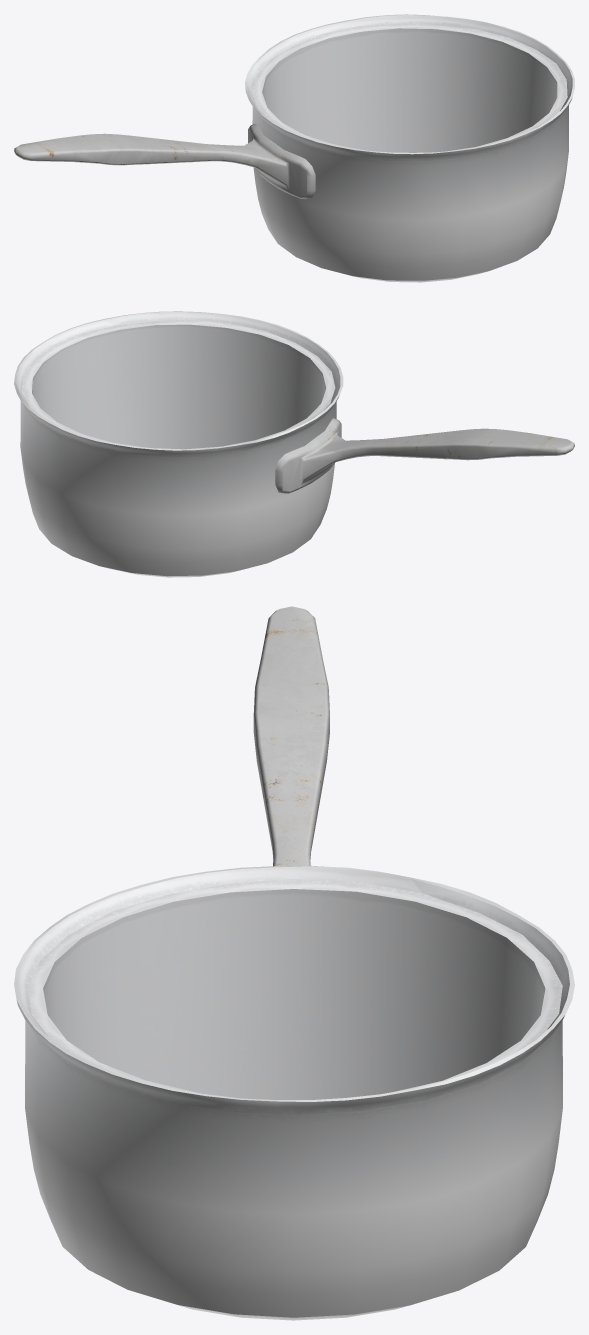
Rendered from SM_Pan_B1.fbx.
3 renders of one model, top to bottom at view 1: azimuth 30°, elevation 25°; view 2: azimuth 150°, elevation 25°; view 3: azimuth 270°, elevation 25°, orthographic. The views are drawn at different scales.
Parts seen in each view (by area): view 1: SM_Pan_B1; view 2: SM_Pan_B1; view 3: SM_Pan_B1.
Boxes of the visible parts, left/top/right/bottom form: SM_Pan_B1: left=14, top=14, right=574, bottom=282; SM_Pan_B1: left=14, top=311, right=574, bottom=577; SM_Pan_B1: left=14, top=606, right=574, bottom=1320.
Size of the model in its own units: 34.73 by 18.5 by 10.94.
2 materials, 2 textured.
